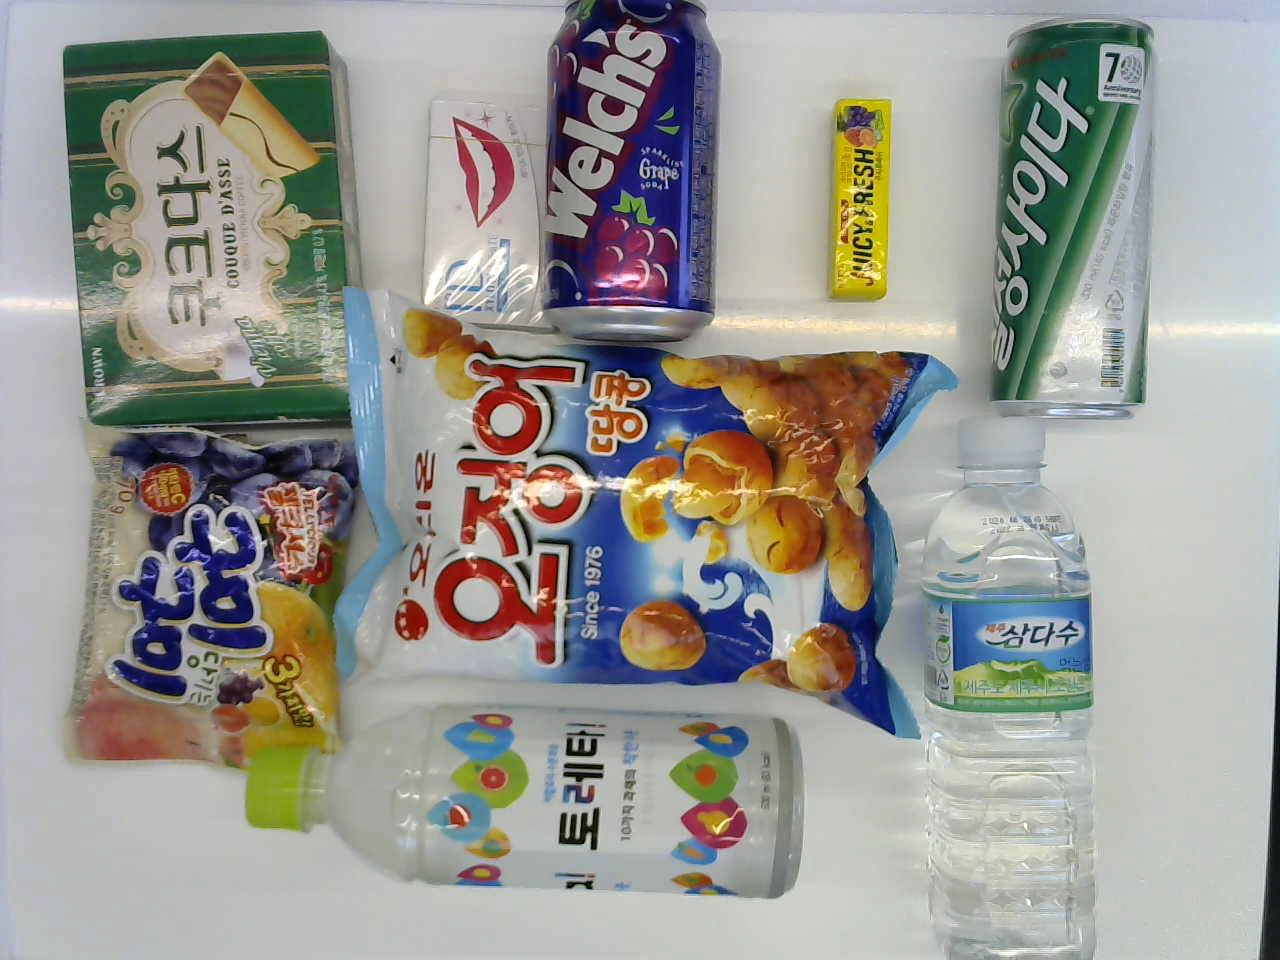ID_gum: (419, 87, 549, 314)
cidar: (973, 6, 1155, 400)
couque_coffee: (41, 30, 370, 430)
gumi_gumi: (55, 426, 352, 759)
juicyfresh: (808, 77, 887, 306)
samdasu: (917, 411, 1089, 957)
squid_peanut: (328, 305, 911, 729)
toreta: (247, 686, 801, 912)
welchs: (535, 4, 724, 326)
